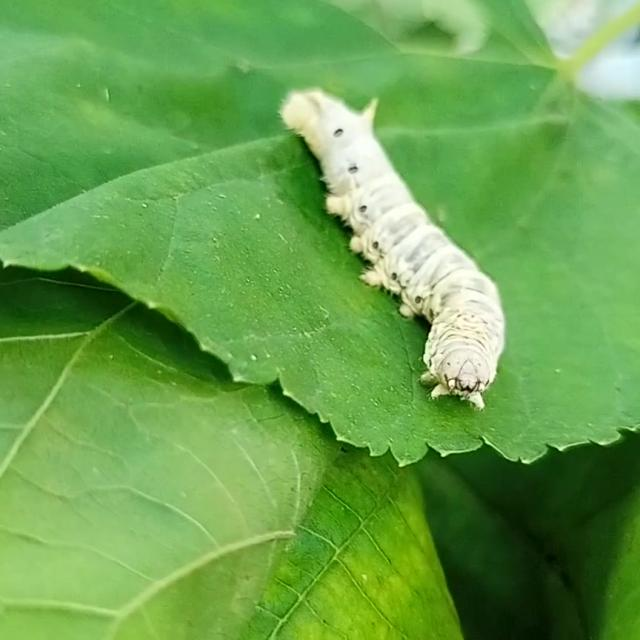Grasserie: (243, 73, 565, 452)
